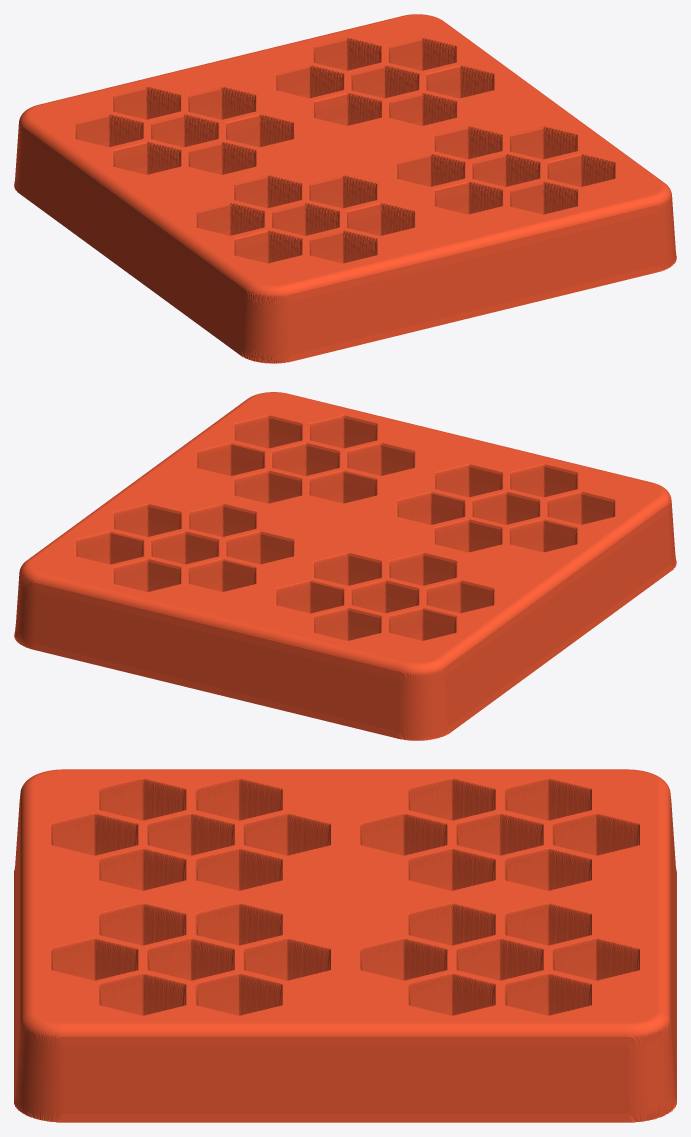
File: mold.glb
3 renders of one model, top to bottom at view 1: azimuth 30°, elevation 25°; view 2: azimuth 150°, elevation 25°; view 3: azimuth 270°, elevation 25°, orthographic. The views are drawn at different scales.
Visible parts, largest first — view 1: geometry_0; view 2: geometry_0; view 3: geometry_0.
Part boxes in pixels (<box>): geometry_0: <box>14,14,676,363</box>; geometry_0: <box>14,392,676,740</box>; geometry_0: <box>14,769,676,1122</box>.
Size of the model in its own units: 0.1169 by 0.0185 by 0.1218.
